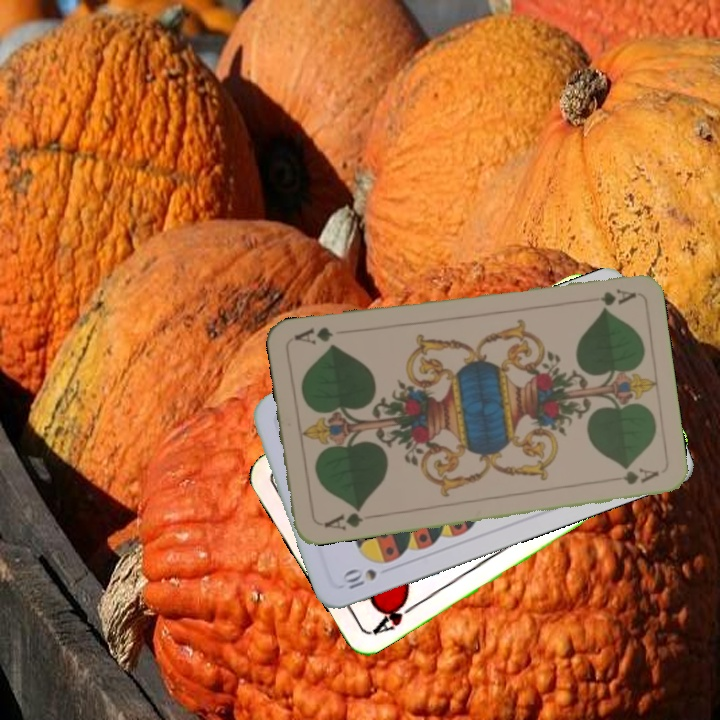GA: (320, 503, 366, 533), (596, 284, 638, 309)
HA: (367, 594, 420, 638)
S10: (337, 564, 379, 592)
